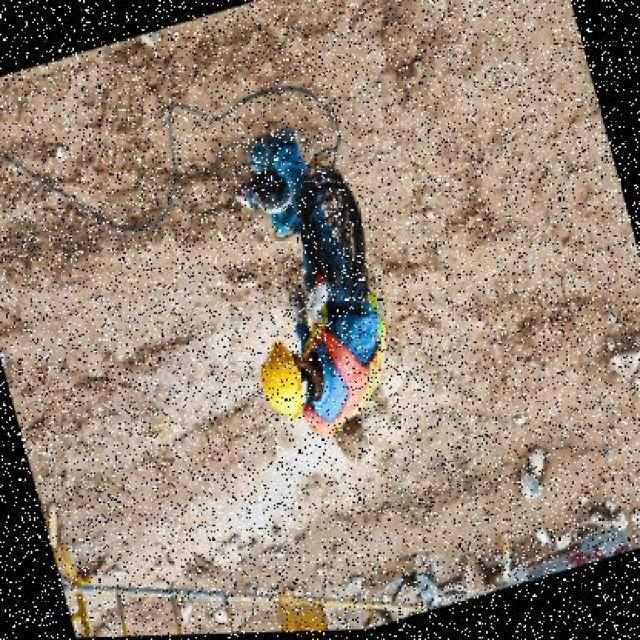helmet: (251, 340, 307, 429)
